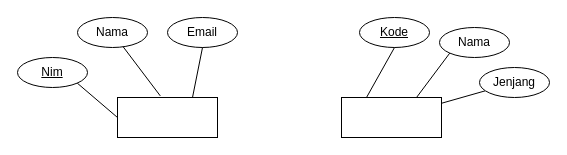
This 567x155 diagram has some shape labels left out. Here are the shapes that lost their labels. From the top down, the centre of each, then its label:
the point at 167,117: Mahasiswa
the point at 391,117: Jurusan
